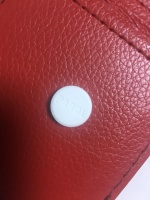Parol: (48, 85, 93, 128)
